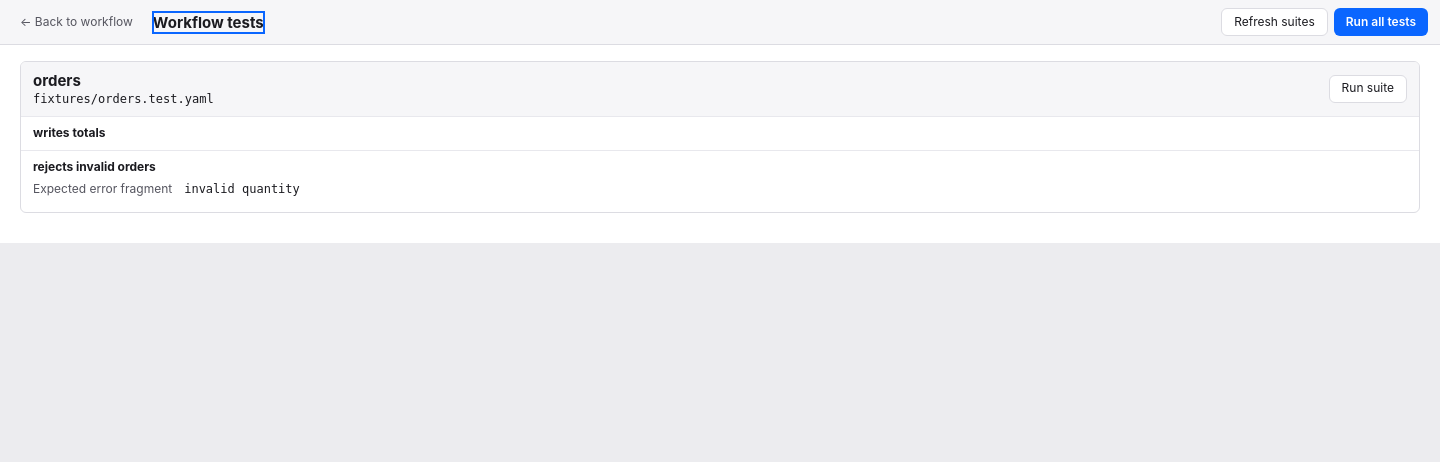
lists saved workflow cases and shows structured workbook and expected-error results
expect the text "writes totals" is shown: met, box [33,125,105,142]
expect the text "rejects invalid orders" is shown: met, box [33,159,156,175]
Click the button "Run all tests" at {"x": 1381, "y": 22}, box [1334,8,1428,36]
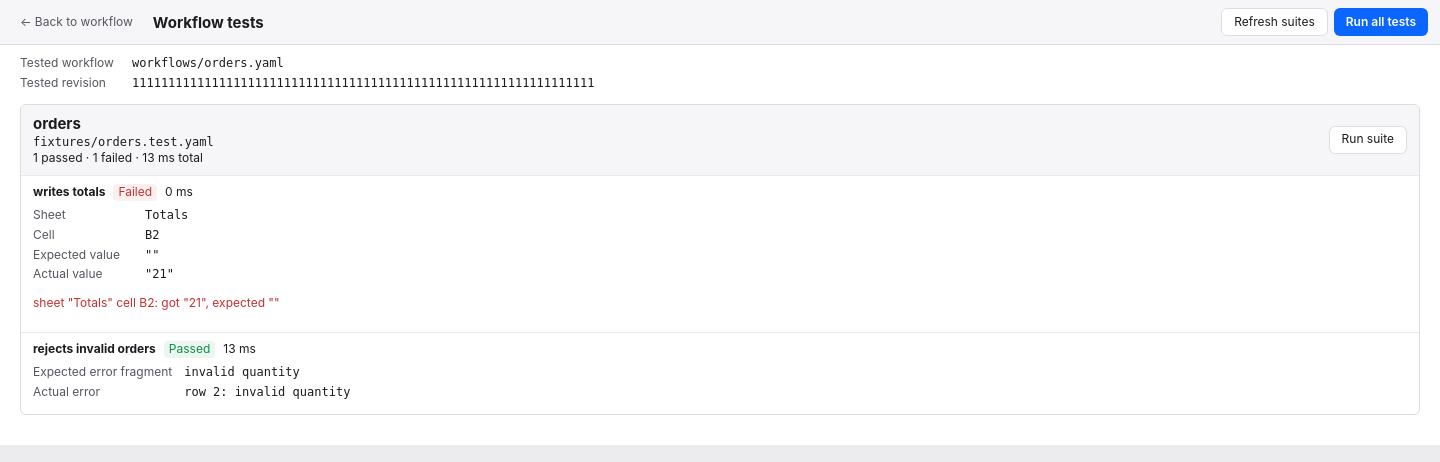
expect the text "Passed" is shown: met, box [164,341,215,358]
expect the text "Failed" is shown: met, box [113,184,157,201]
expect the text "0 ms" is shown: met, box [165,184,193,201]
